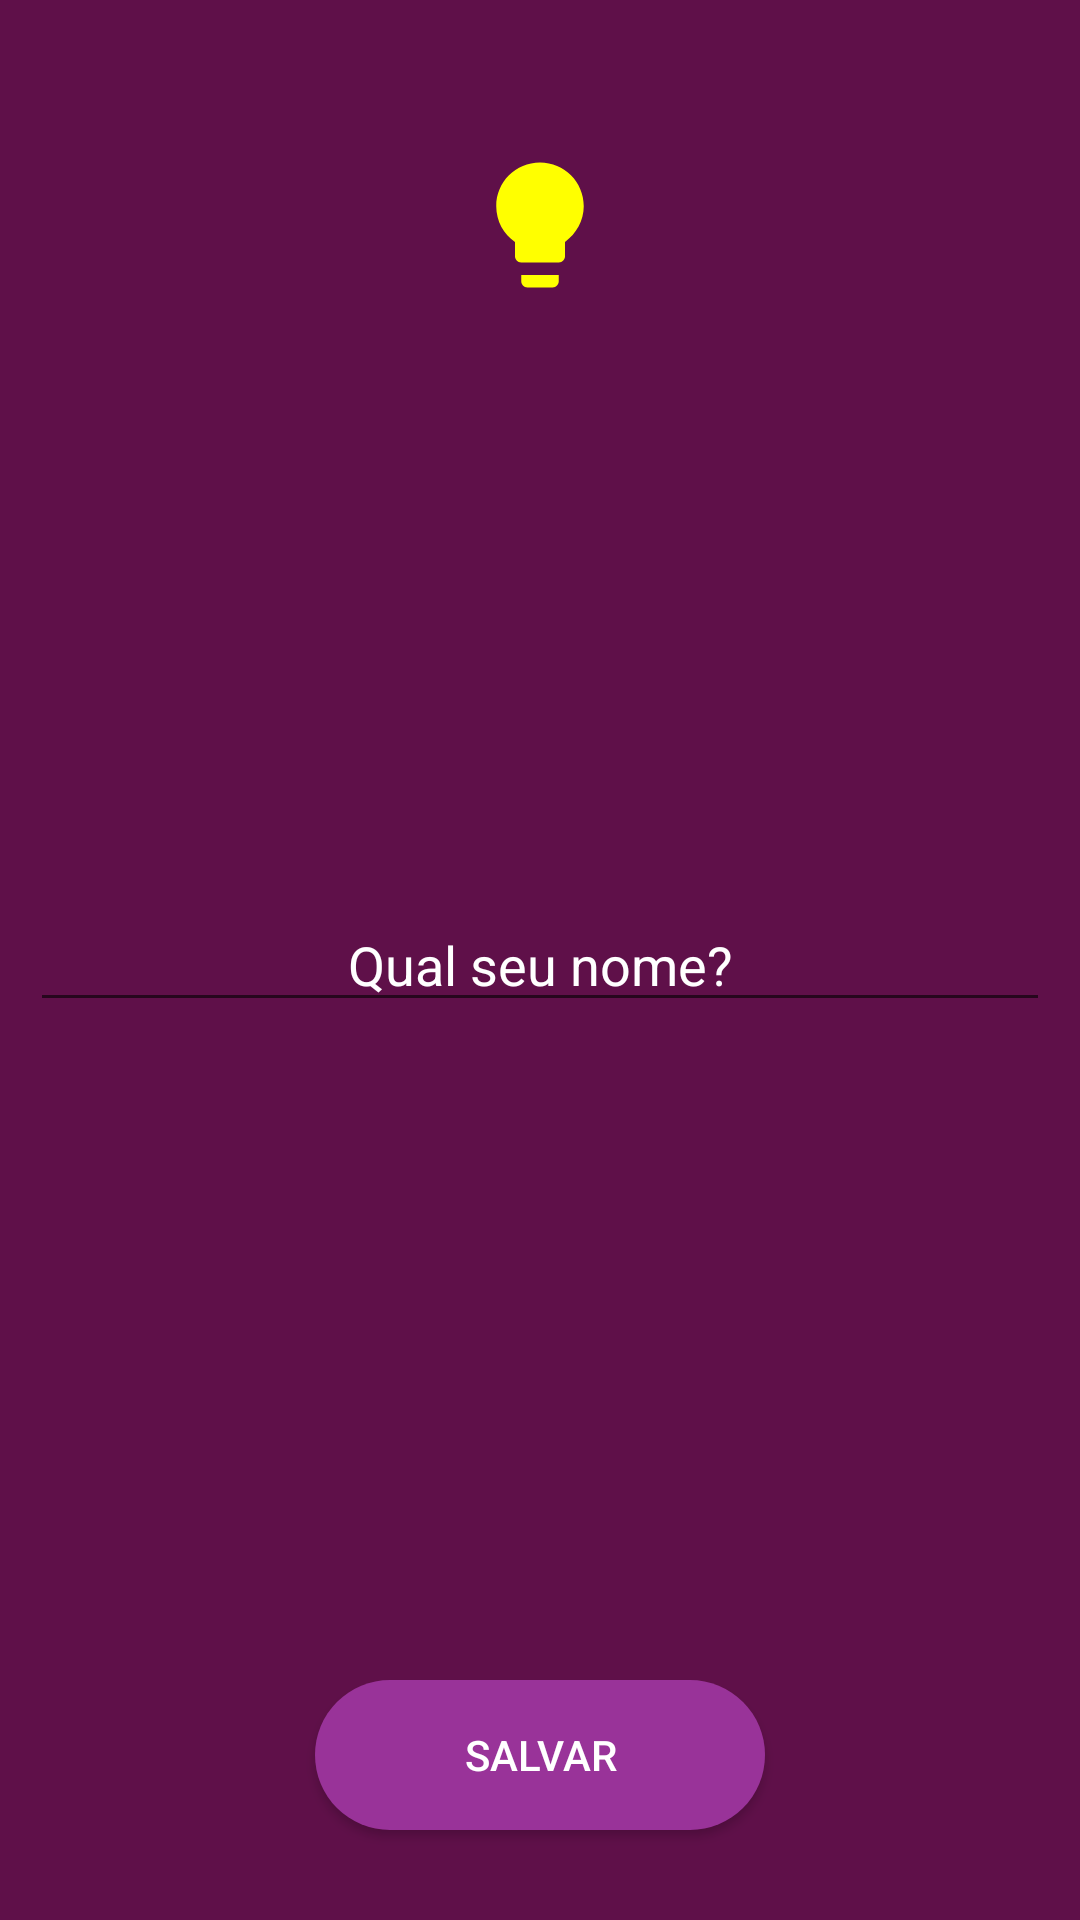

Point at icon controls on the screen. Image size 1080 x 1920, points as (x,y).
bulb: (540,225)
